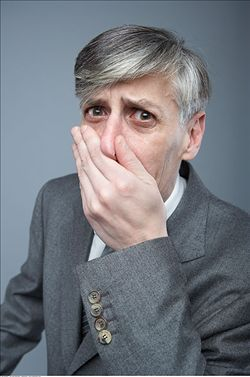face: (79, 53, 178, 223)
